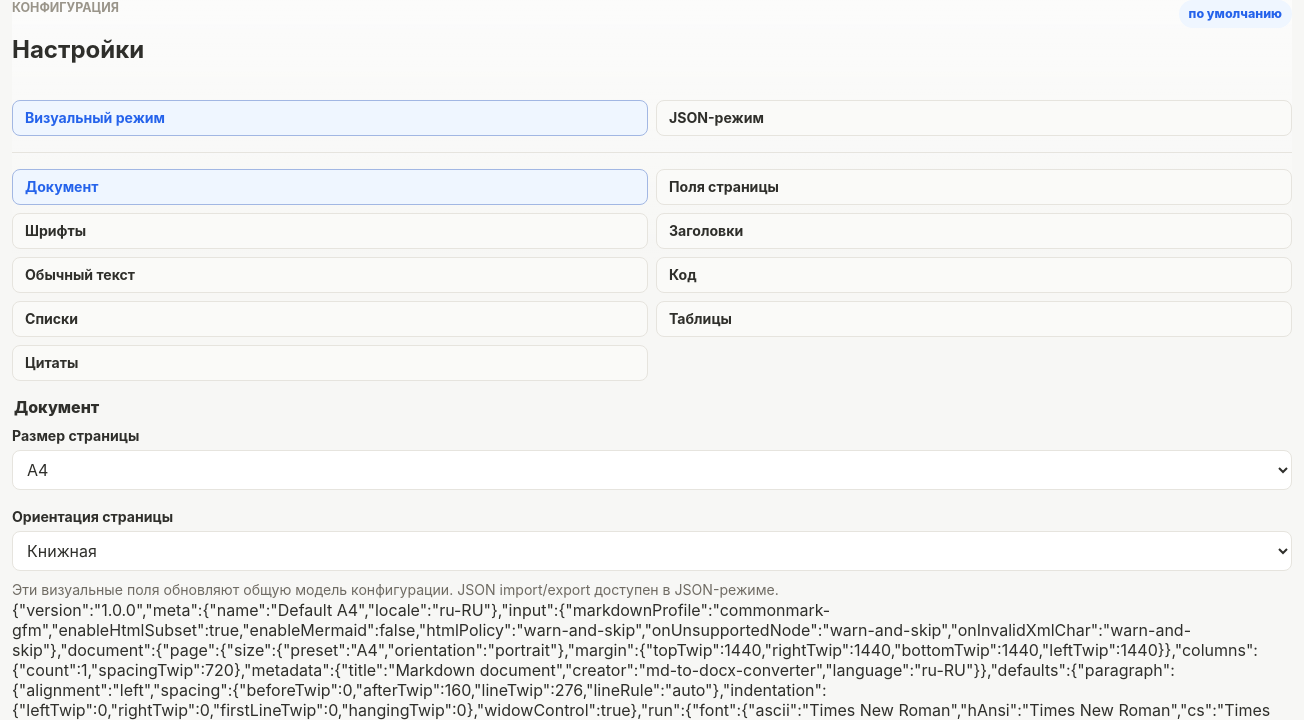
Test: StyleSettingsPanel › shows a Russian error for invalid color
Click the tab "Шрифты" at (56, 231), box x1=12 y1=213 x2=648 y2=249
(page scrolled)
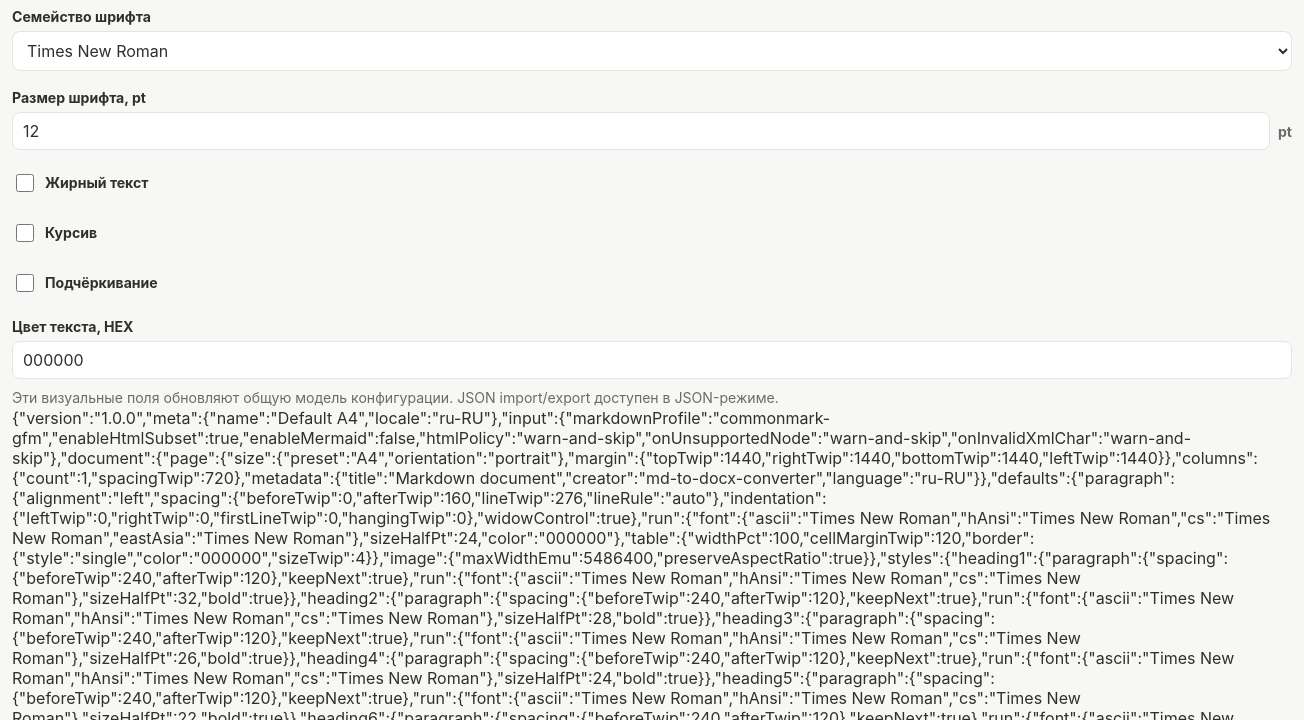
Replace the text in the field labelled "Цвет текста, HEX" with "ZZZZZZ" at (652, 360), box x1=12 y1=341 x2=1292 y2=379
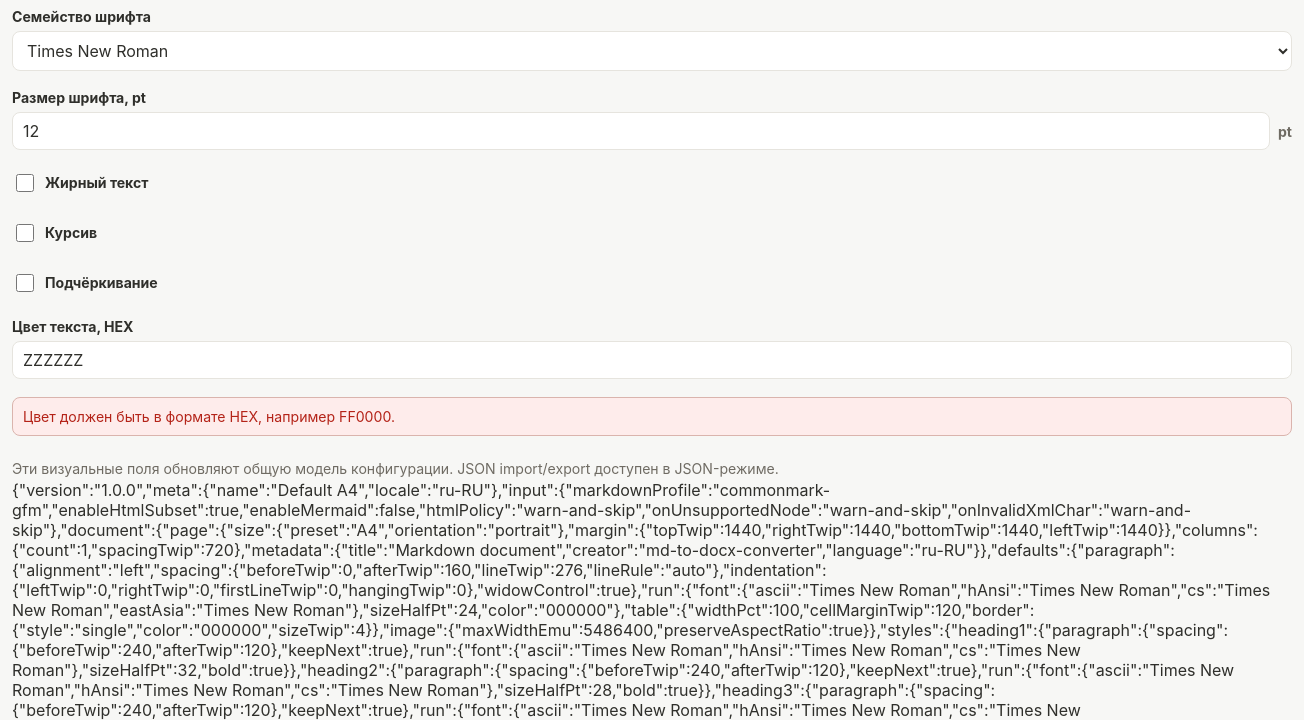
Expected: the text "Цвет должен быть в формате HEX, например FF0000." is shown, x1=12 y1=397 x2=1292 y2=436
